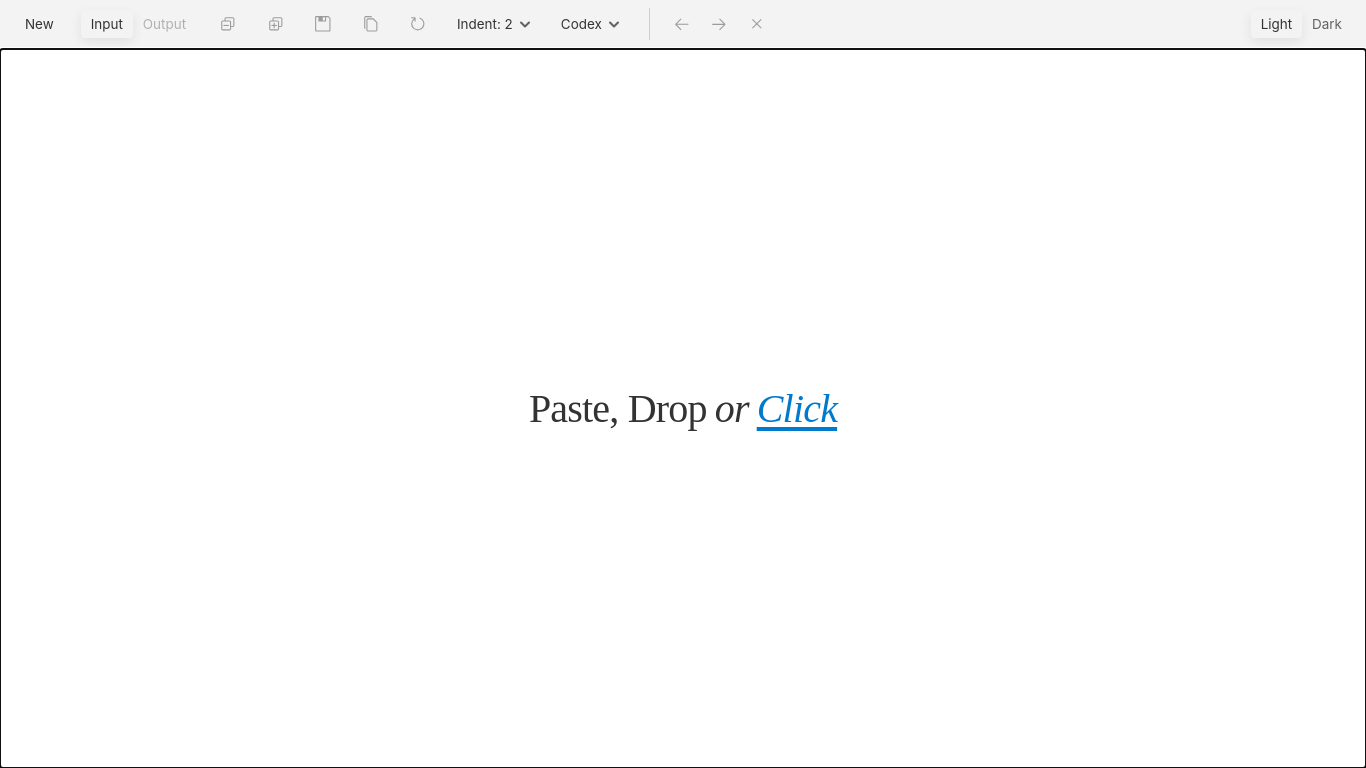
Test: App › stays in input mode and shows notice for empty open-file content
The image size is (1366, 768).
Click the button "Click" at (797, 408), box [757,378,837,438]
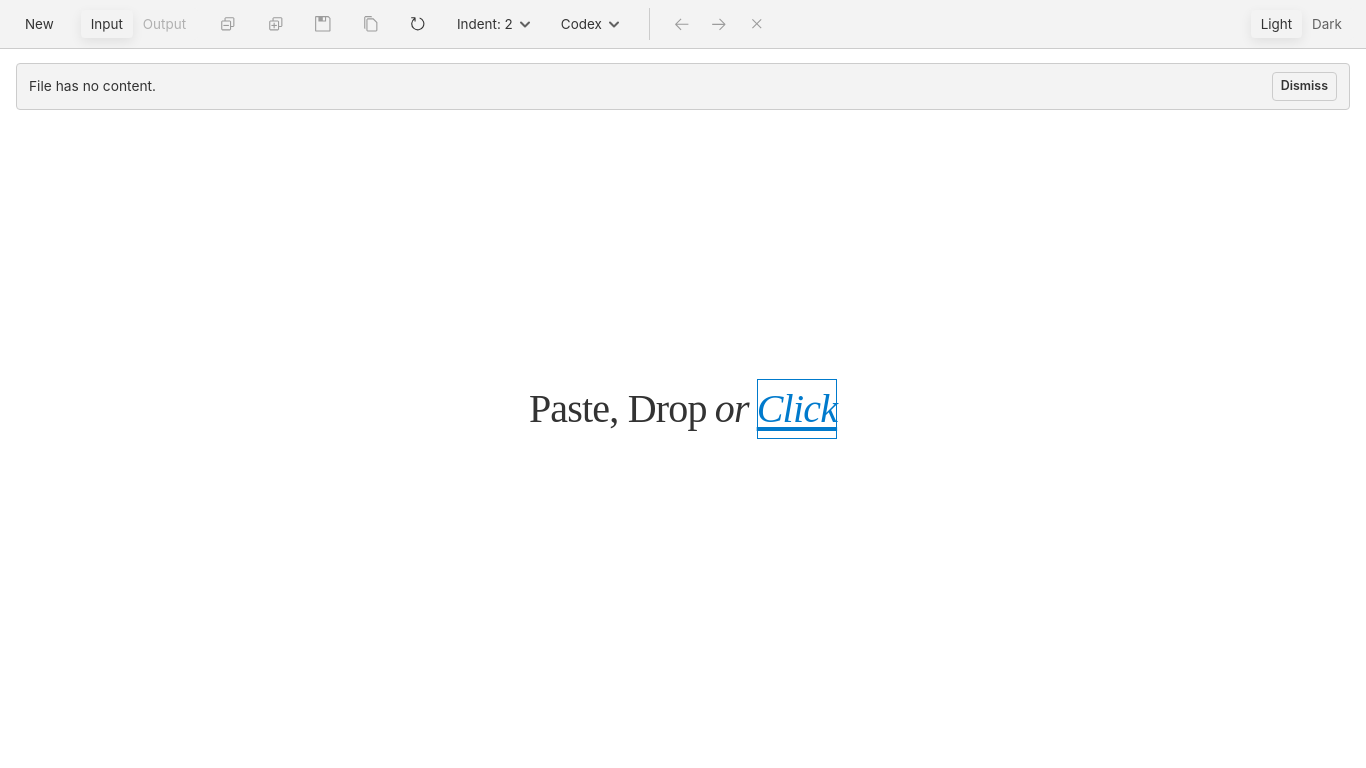
Check: the message with test id "ingest-notice" shows "File has no content.", box [29,78,156,94]
